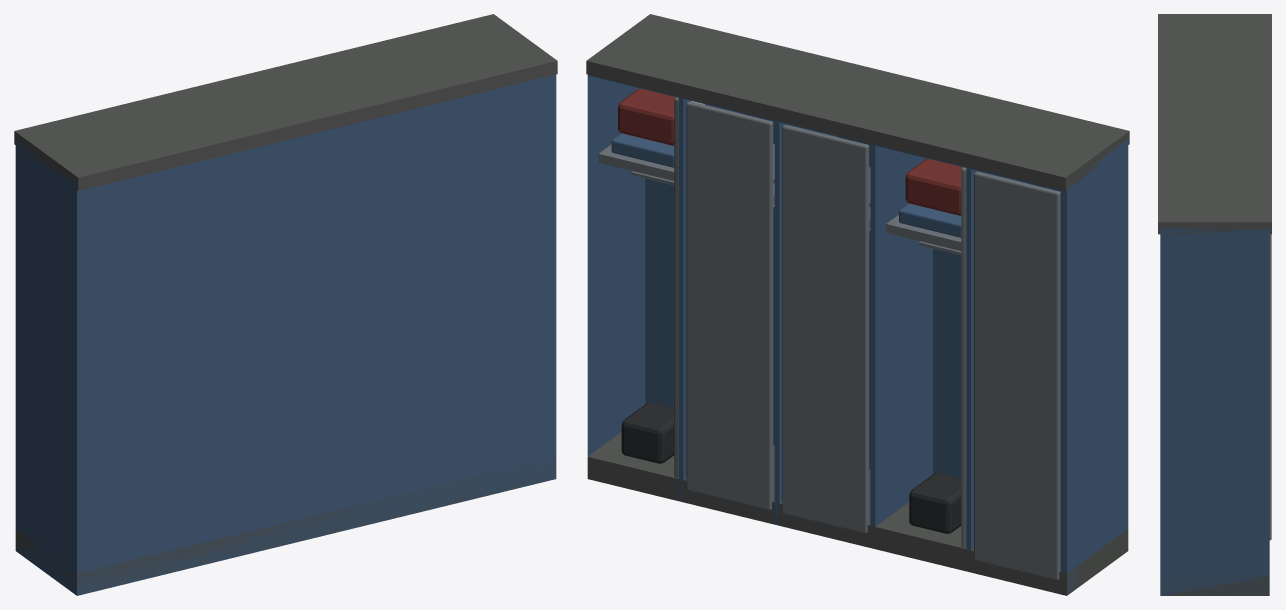
Rendered from locker_row.glb.
3 renders of one model, left to right at view 1: azimuth 30°, elevation 25°; view 2: azimuth 150°, elevation 25°; view 3: azimuth 270°, elevation 25°, orthographic. The views are drawn at different scales.
Parts seen in each view (by area): view 1: locker_row; view 2: locker_row; view 3: locker_row.
Part boxes in pixels (left/top/right/bottom): locker_row: left=14, top=14, right=557, bottom=595; locker_row: left=586, top=14, right=1129, bottom=595; locker_row: left=1158, top=14, right=1271, bottom=595.
Size of what is drawn, in the model's own units: 2.25 by 1.89 by 0.52.
3 materials, 3 textured.
